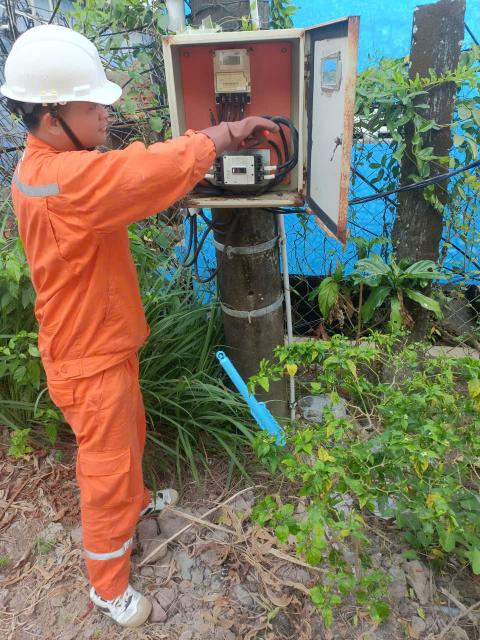gloves: (201, 100, 299, 158)
helmet: (0, 1, 129, 132)
shoes: (85, 567, 170, 638), (108, 473, 187, 529)
